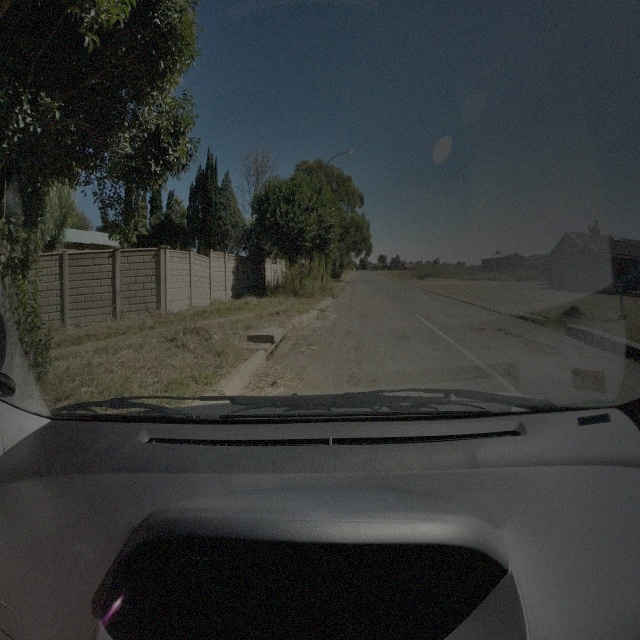pothole: (532, 339, 561, 357), (493, 325, 508, 334), (472, 327, 486, 334), (516, 335, 525, 342)
